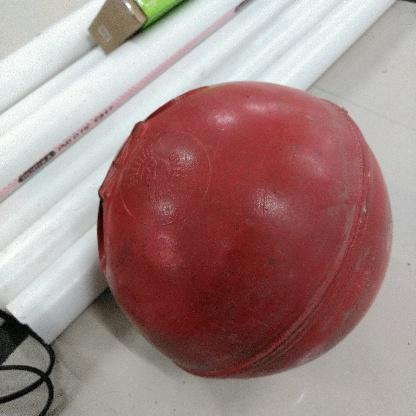red_buoy: (93, 78, 396, 387)
